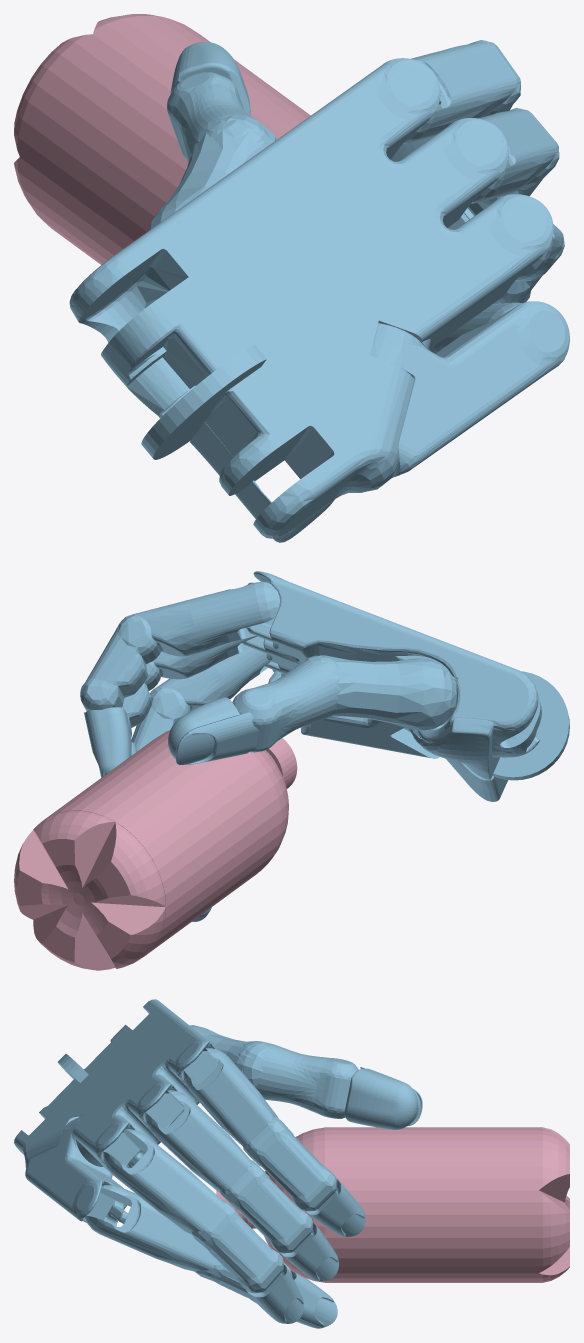
3 views of the same model, one above another, from view 1: azimuth 30°, elevation 25°; view 2: azimuth 150°, elevation 25°; view 3: azimuth 270°, elevation 25° (orthographic). The views are drawn at different scales.
Visible parts, largest first — view 1: world; view 2: world; view 3: world.
Boxes of the visible parts, <box> form: world: <box>14,14,569,542</box>; world: <box>14,571,569,970</box>; world: <box>14,999,569,1328</box>.
Bounding box in the file's own units: 0.1542 × 0.1193 × 0.2146.
